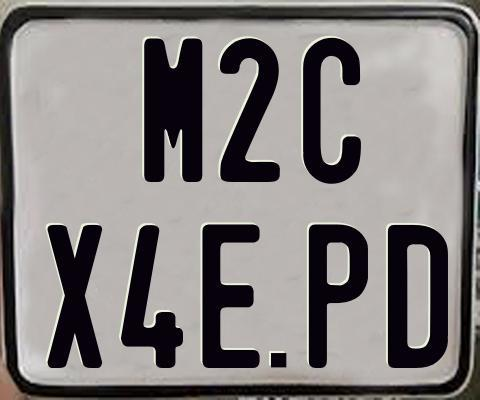2: (218, 35, 281, 182)
4: (119, 224, 184, 369)
C: (302, 35, 364, 186)
D: (388, 222, 449, 369)
E: (202, 224, 265, 371)
M: (141, 36, 202, 183)
P: (306, 224, 366, 373)
X: (45, 223, 106, 372)
